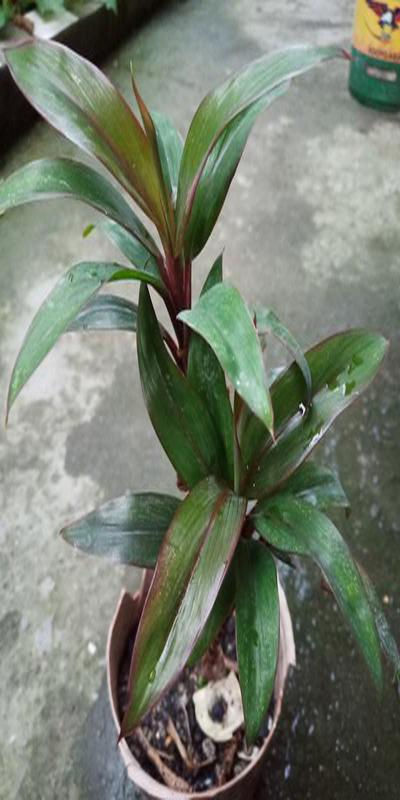Baston de san jose: (12, 49, 395, 725)
